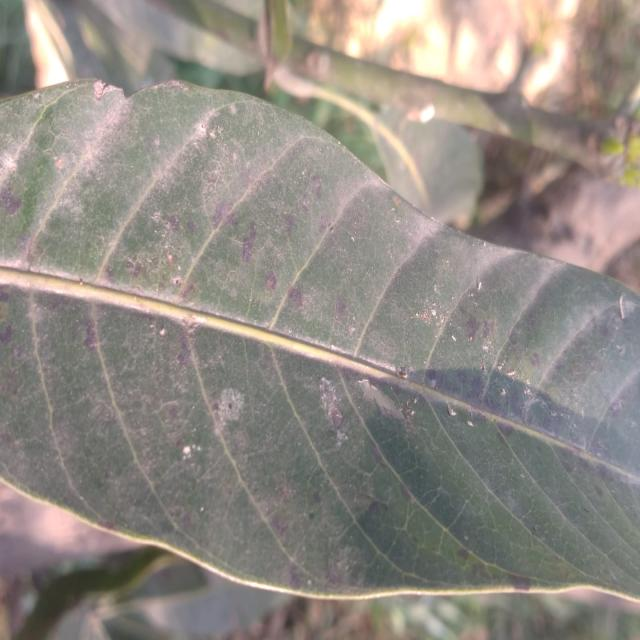Powdery Mildew: (354, 387, 406, 421), (316, 374, 346, 427), (216, 376, 245, 424), (179, 442, 197, 458)
black die: (237, 215, 261, 263), (285, 275, 313, 312), (462, 315, 486, 340), (261, 266, 281, 293), (184, 218, 201, 238)
